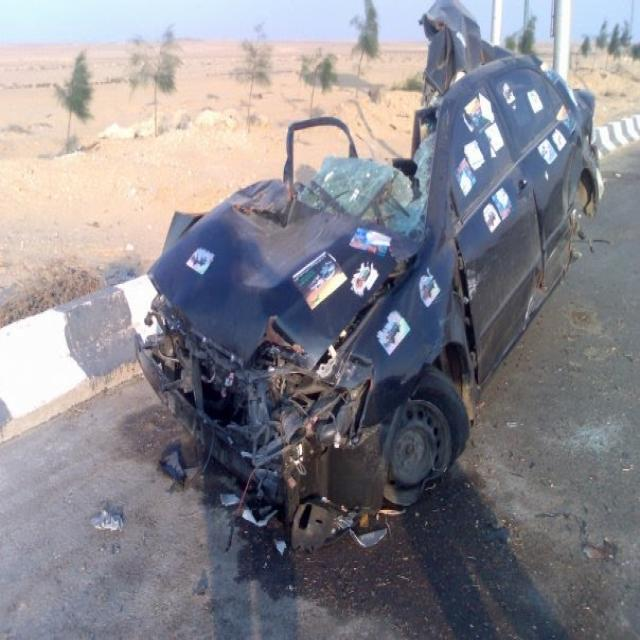crush: (134, 0, 518, 552), (524, 136, 598, 325)
